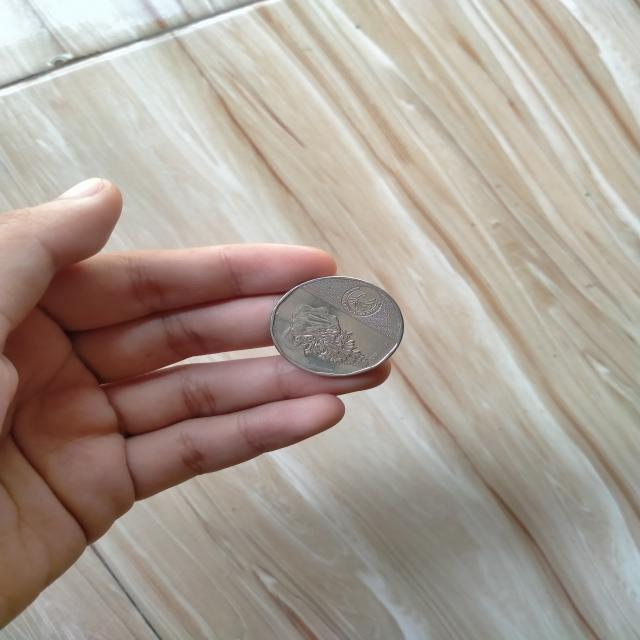10_New_Back: (269, 300, 375, 373)
